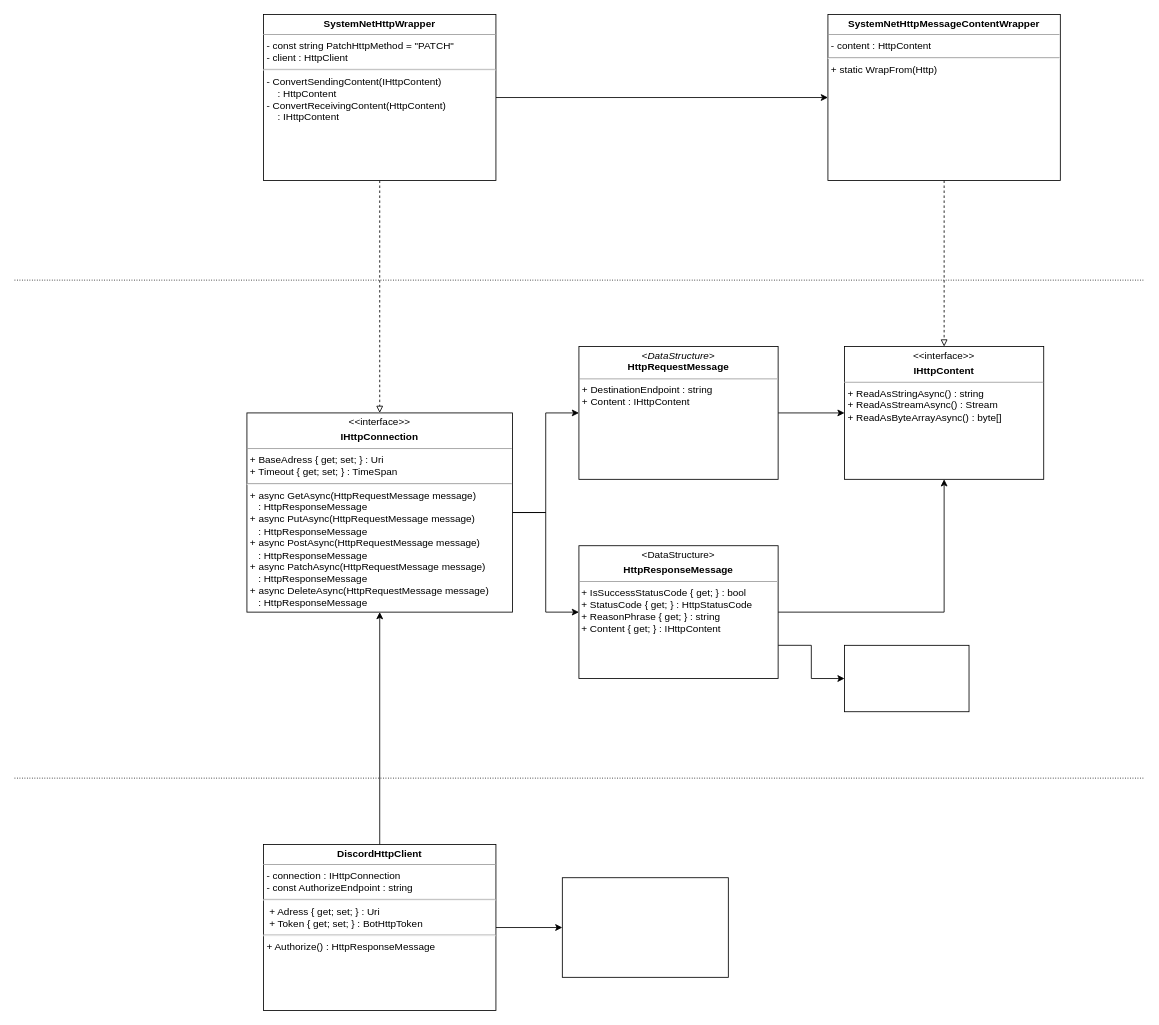
This 1159x1025 diagram has some shape labels left out. Each missing label, with the box of its shape:
<<DataStructure>> BotHttpToken + Type : string + Value : string: (561, 877, 728, 977)
<Enumeration> HttpStatusCode: (844, 644, 969, 712)
